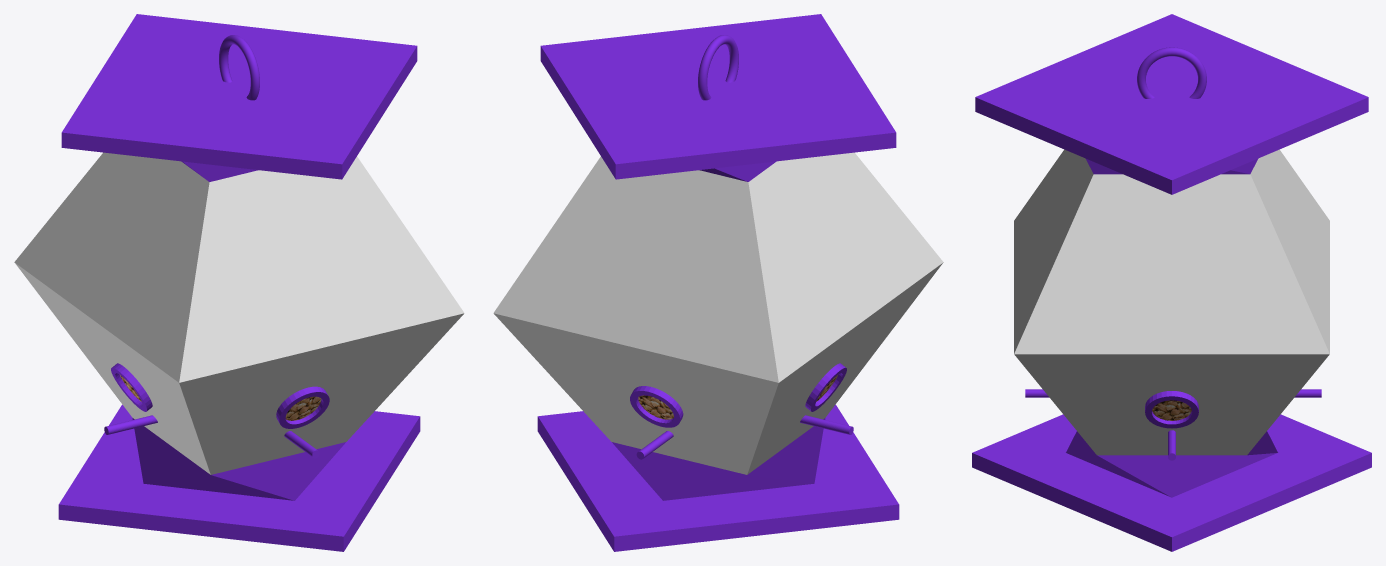
The model's file is Bird Feeder 3.fbx.
3 views of the same model, side by side, from view 1: azimuth 30°, elevation 25°; view 2: azimuth 150°, elevation 25°; view 3: azimuth 270°, elevation 25° (orthographic). The views are drawn at different scales.
Visible parts, largest first — view 1: Cube.013, Cylinder.039, Torus.004, Cylinder.041; view 2: Cube.013, Cylinder.035, Torus.004, Cylinder.041; view 3: Cube.013, Cylinder.043, Torus.004.
Part boxes in pixels (x1,y1,x2,y2): Cube.013: (14, 14, 464, 551); Cylinder.039: (276, 386, 329, 428); Torus.004: (219, 35, 259, 100); Cylinder.041: (111, 363, 152, 411); Cube.013: (493, 14, 943, 551); Cylinder.035: (630, 386, 683, 427); Torus.004: (698, 35, 738, 100); Cylinder.041: (805, 363, 846, 411); Cube.013: (972, 14, 1371, 551); Cylinder.043: (1145, 391, 1198, 428); Torus.004: (1137, 47, 1206, 98).
Bounding box in the file's own units: 248 × 287 × 248.
